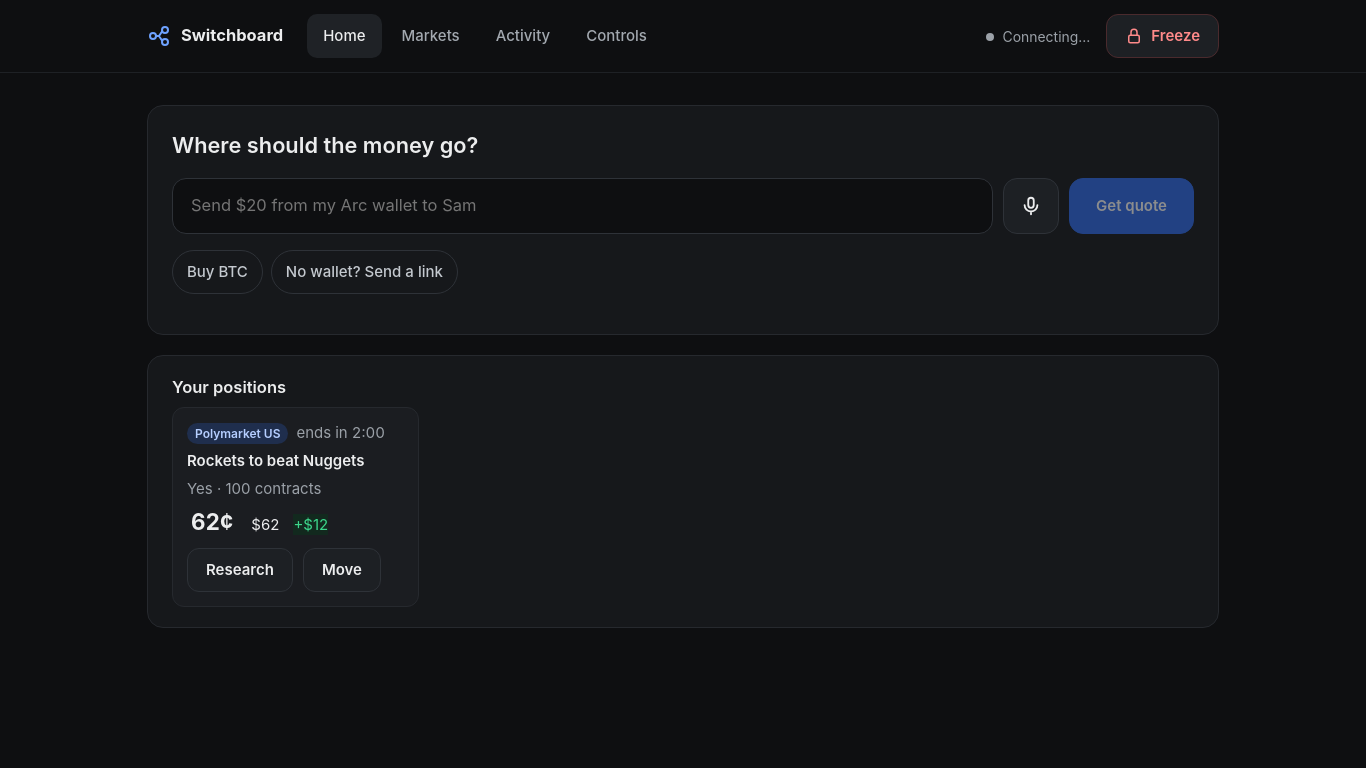
it: demo mode on Home › shows the server's suggestions instead of the examples
This screenshot has width=1366, height=768.
Click the button "Buy BTC": [217, 272] box 172,250 -> 263,294
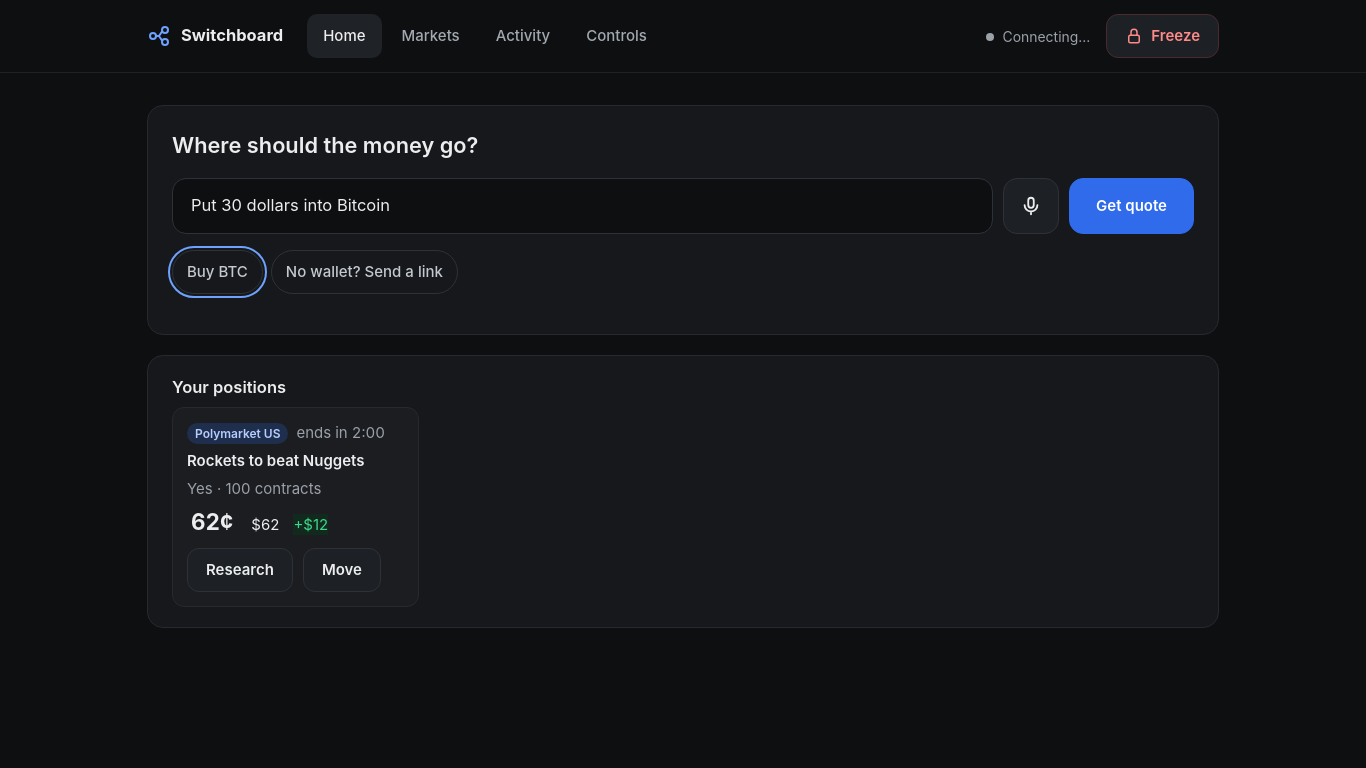
Check: the field labelled "Where should the money go?" holds "Put 30 dollars into Bitcoin", box 172,178 -> 993,234
